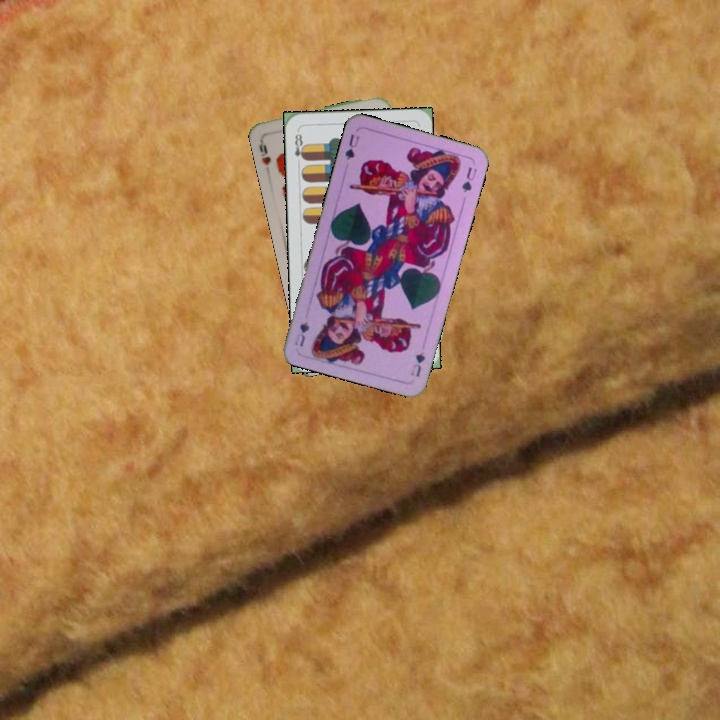E8: (291, 127, 308, 167)
GU: (406, 348, 428, 379), (341, 130, 362, 162)
H9: (255, 136, 274, 168)
